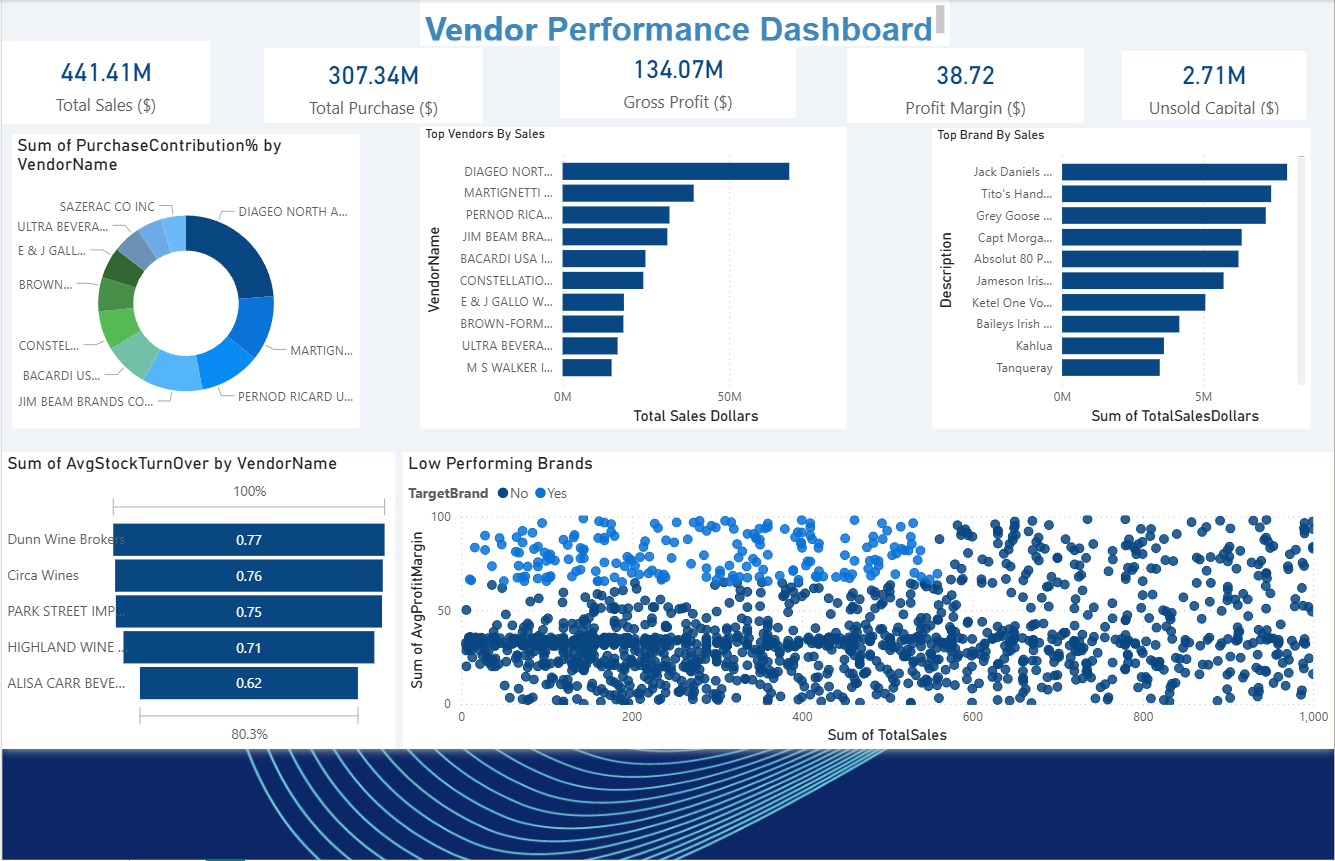

The dashboard page shown, as its layout file describes it:
{"tool":"powerbi","page":{"name":"Page 1","canvas":[1280,720],"ordinal":0},"visuals":[{"type":"card","fields":{"Values":["Sum(vendor_sales_summary.TotalSalesDollars)"]},"box":[0,39.4,199.9,79.8],"z":0},{"type":"card","fields":{"Values":["Sum(vendor_sales_summary.TotalPurchaseDollars)"]},"box":[251.8,46.1,210.5,72.1],"z":1000},{"type":"card","fields":{"Values":["Sum(vendor_sales_summary.GrossProfit)"]},"box":[536.2,39.4,226.8,74],"z":2000},{"type":"card","fields":{"Values":["Avg(vendor_sales_summary.ProfitMargin)"]},"box":[812,46.1,227.7,72.1],"z":3000},{"type":"card","fields":{"Values":["Sum(vendor_sales_summary.UnsoldCaptial)"]},"box":[1076.3,49,176.8,66.3],"z":4000},{"type":"donutChart","fields":{"Y":["Sum(PurchaseContribution.PurchaseContribution%)"],"Category":["PurchaseContribution.VendorName"]},"box":[9.6,128.8,334.4,283.5],"z":5000},{"type":"barChart","title":"Top Vendors By Sales","fields":{"Category":["vendor_sales_summary.VendorName"],"Y":["Sum(vendor_sales_summary.TotalSalesDollars)"]},"box":[401.7,122,410.3,290.2],"z":6000},{"type":"barChart","title":"Top Brand By Sales","fields":{"Y":["Sum(vendor_sales_summary.TotalSalesDollars)"],"Category":["vendor_sales_summary.Description"]},"box":[893.7,123,364.2,289.2],"z":7000},{"type":"funnel","fields":{"Y":["Sum(LowTurnoverVendor.AvgStockTurnOver)"],"Category":["LowTurnoverVendor.VendorName"]},"box":[0,434.4,377.7,285.4],"z":8000},{"type":"scatterChart","title":"Low Performing Brands","fields":{"Category":["BrandPerformace.Description"],"Series":["BrandPerformace.TargetBrand"],"X":["Sum(BrandPerformace.TotalSales)"],"Y":["Sum(BrandPerformace.AvgProfitMargin)"]},"box":[385.3,434.4,894.7,285.4],"z":9000},{"type":"textbox","box":[401.7,0,509.3,44.2],"z":10000}]}

Visuals, with their boxes on the page's 1280x720 design canvas (x1, y1, x2, y2). These are canvas units, not pixel positions in the 1335x861 screenshot, which may show the page scaled, cropped or inside an application window:
card - Sum(vendor_sales_summary.TotalSalesDollars): <region>0, 39, 200, 119</region>
card - Sum(vendor_sales_summary.TotalPurchaseDollars): <region>252, 46, 462, 118</region>
card - Sum(vendor_sales_summary.GrossProfit): <region>536, 39, 763, 113</region>
card - Avg(vendor_sales_summary.ProfitMargin): <region>812, 46, 1040, 118</region>
card - Sum(vendor_sales_summary.UnsoldCaptial): <region>1076, 49, 1253, 115</region>
donutChart - Sum(PurchaseContribution.PurchaseContribution%) x PurchaseContribution.VendorName: <region>10, 129, 344, 412</region>
"Top Vendors By Sales" barChart: <region>402, 122, 812, 412</region>
"Top Brand By Sales" barChart: <region>894, 123, 1258, 412</region>
funnel - Sum(LowTurnoverVendor.AvgStockTurnOver) x LowTurnoverVendor.VendorName: <region>0, 434, 378, 720</region>
"Low Performing Brands" scatterChart: <region>385, 434, 1280, 720</region>
textbox: <region>402, 0, 911, 44</region>
